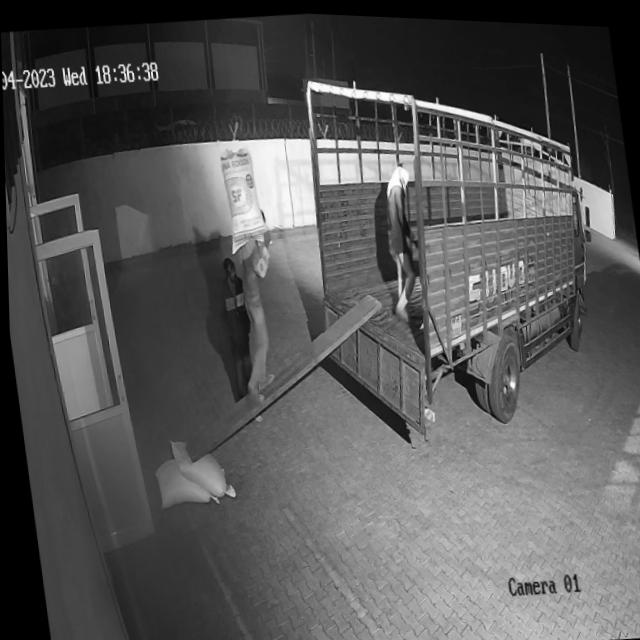sack: (217, 141, 268, 256), (166, 430, 232, 500), (149, 452, 216, 509)
